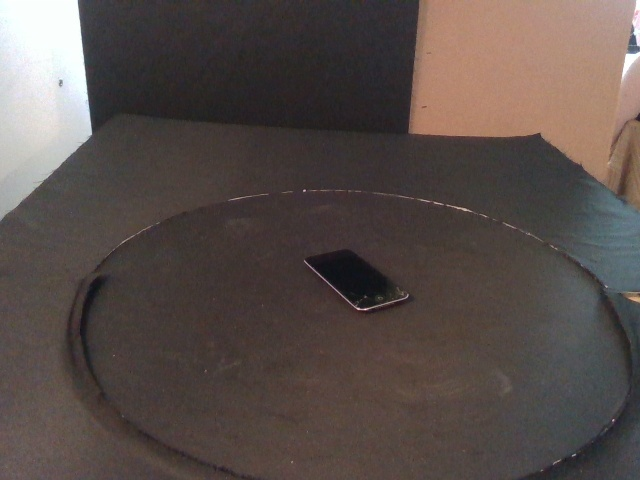phone: (304, 249, 411, 313)
